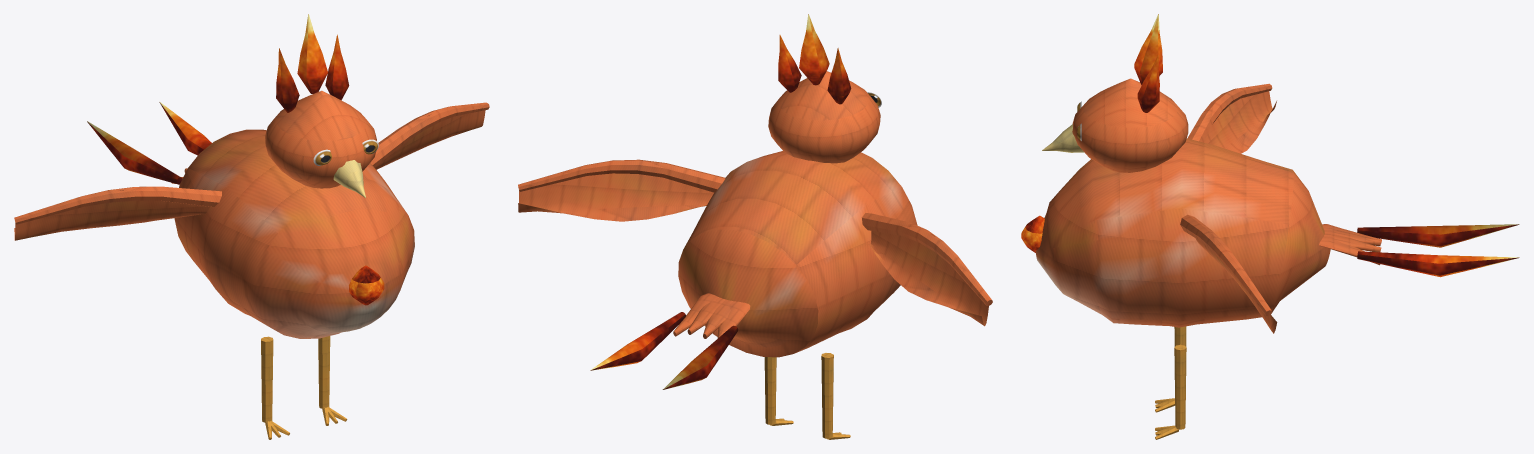
File: sp_hinotori-k8pd91g8.glb
3 renders of one model, left to right at view 1: azimuth 30°, elevation 25°; view 2: azimuth 150°, elevation 25°; view 3: azimuth 270°, elevation 25°, orthographic.
Visible parts, largest first — view 1: Torso, HeadMesh, WingRMesh, WingLMesh, Flame, TailFlame, Leg-1, Leg1, EmberHeart; view 2: Torso, WingLMesh, HeadMesh, WingRMesh, TailFlame, Flame, TailMesh, Leg-1, Leg1; view 3: Torso, HeadMesh, TailFlame, WingRMesh, WingLMesh, Flame, TailMesh, Leg1, EmberHeart.
Part boxes in pixels (bbox=[...]): Torso: bbox=[174, 129, 414, 338]; HeadMesh: bbox=[265, 90, 378, 197]; WingRMesh: bbox=[14, 186, 221, 240]; WingLMesh: bbox=[370, 102, 489, 169]; Flame: bbox=[276, 14, 349, 112]; TailFlame: bbox=[87, 102, 211, 184]; Leg-1: bbox=[261, 336, 289, 439]; Leg1: bbox=[318, 336, 347, 425]; EmberHeart: bbox=[349, 265, 384, 305]; Torso: bbox=[678, 151, 917, 357]; WingLMesh: bbox=[518, 159, 725, 221]; HeadMesh: bbox=[768, 71, 881, 163]; WingRMesh: bbox=[862, 213, 992, 326]; TailFlame: bbox=[590, 312, 738, 389]; Flame: bbox=[778, 14, 851, 104]; TailMesh: bbox=[673, 293, 750, 338]; Leg-1: bbox=[821, 353, 850, 439]; Leg1: bbox=[764, 357, 793, 425]; Torso: bbox=[1035, 138, 1330, 327]; HeadMesh: bbox=[1042, 78, 1188, 172]; TailFlame: bbox=[1357, 224, 1519, 277]; WingRMesh: bbox=[1187, 83, 1276, 153]; WingLMesh: bbox=[1180, 214, 1277, 333]; Flame: bbox=[1134, 14, 1162, 112]; TailMesh: bbox=[1319, 224, 1381, 265]; Leg1: bbox=[1155, 344, 1186, 439]; EmberHeart: bbox=[1021, 215, 1044, 252].
Size of the model in its own units: 0.9143 by 0.7651 by 0.8457.
Materials: 2 (2 with a texture image).
